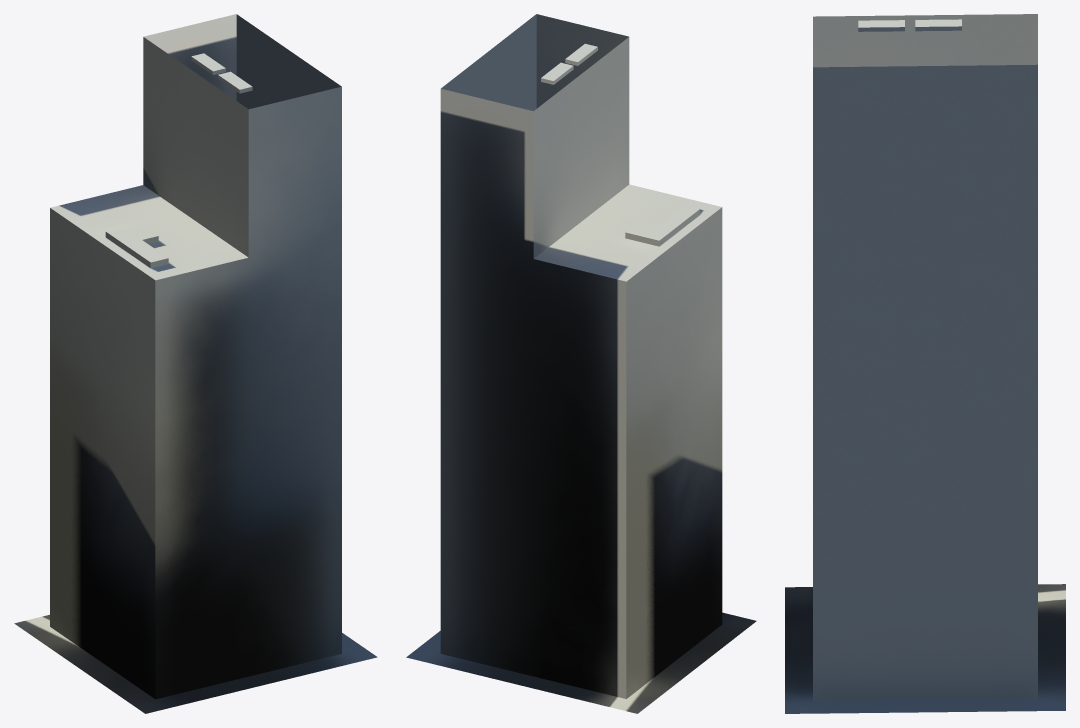
Rendered from fix106.DAE.
3 renders of one model, left to right at view 1: azimuth 30°, elevation 25°; view 2: azimuth 150°, elevation 25°; view 3: azimuth 270°, elevation 25°, orthographic. The views are drawn at different scales.
Parts seen in each view (by area): view 1: Object106; view 2: Object106; view 3: Object106.
Boxes of the visible parts, x1,y1,x2,y2 form: Object106: [14, 14, 377, 713]; Object106: [406, 14, 756, 713]; Object106: [785, 14, 1065, 713].
Bounding box in the file's own units: 1.31 × 3 × 1.2.
